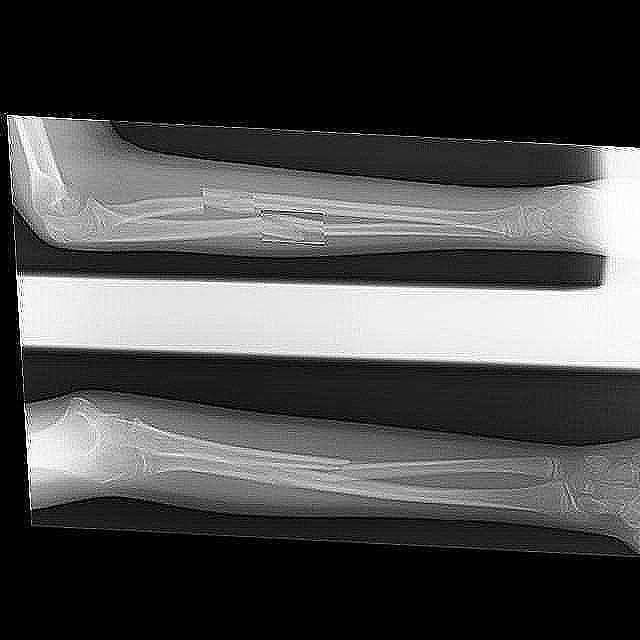bone: (298, 447, 369, 482), (258, 206, 322, 240), (200, 184, 252, 213)
